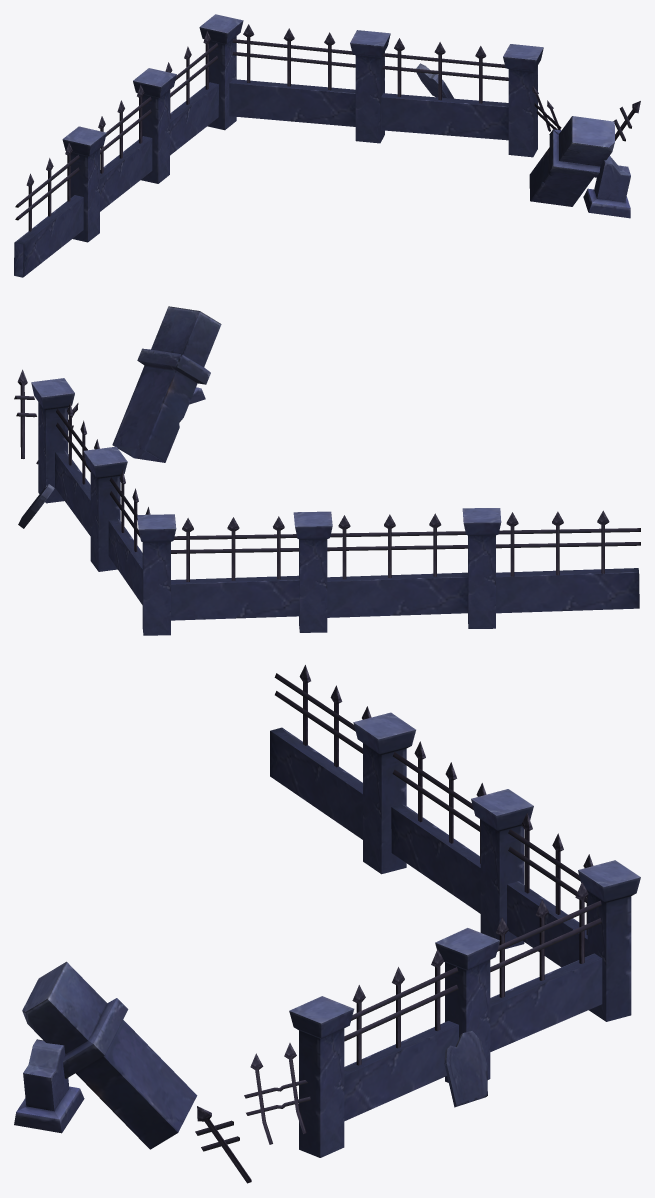
Rendered from Area10_2.fbx.
The picture shows the model from 3 angles, top to bottom: view 1: azimuth 30°, elevation 25°; view 2: azimuth 150°, elevation 25°; view 3: azimuth 270°, elevation 25°; orthographic projection. The views are drawn at different scales.
Visible parts, largest first — view 1: Area10_2; view 2: Area10_2; view 3: Area10_2.
Boxes of the visible parts, x1,y1,x2,y2 form: Area10_2: (14, 14, 640, 277); Area10_2: (14, 306, 640, 635); Area10_2: (14, 665, 640, 1183).
Size of the model in its own units: 3737 by 721 by 2445.
